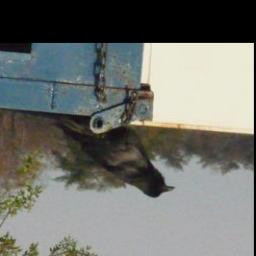Crow: (55, 117, 176, 199)
